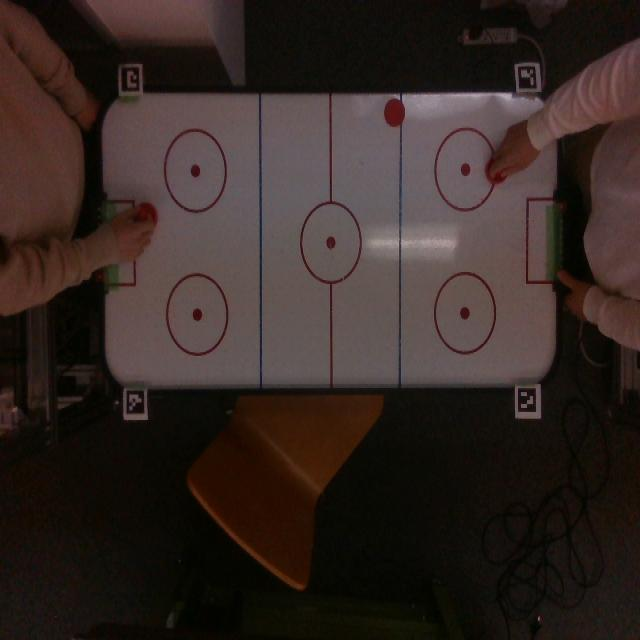puck: (384, 98, 405, 127)
